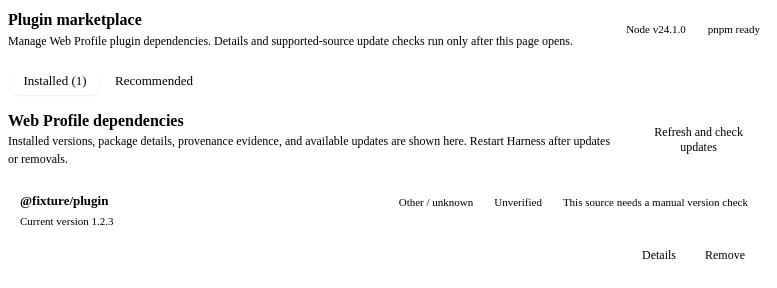
PluginMarketplaceSettingsTab › removes an installed package and requests restart without hot reloading
Expected: the text "@fixture/plugin" is shown, [20,191,114,211]
Step 1. Click the button "Remove" → (725, 255), box [694,239,756,271]
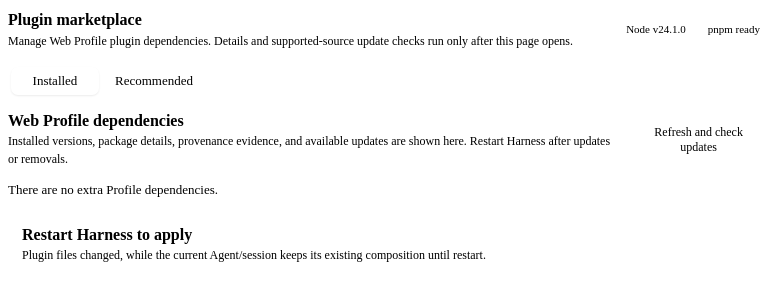
Expected: the text "@fixture/plugin" is gone
Expected: the text "Restart Harness to apply" is shown, [22,226,192,244]
